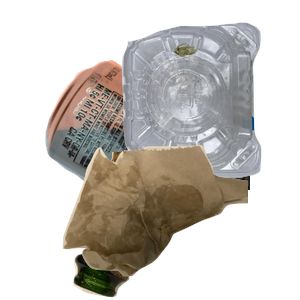glass: (71, 152, 260, 300)
metal: (43, 58, 283, 238)
plastic: (119, 20, 300, 190)
trash: (60, 142, 300, 300)
